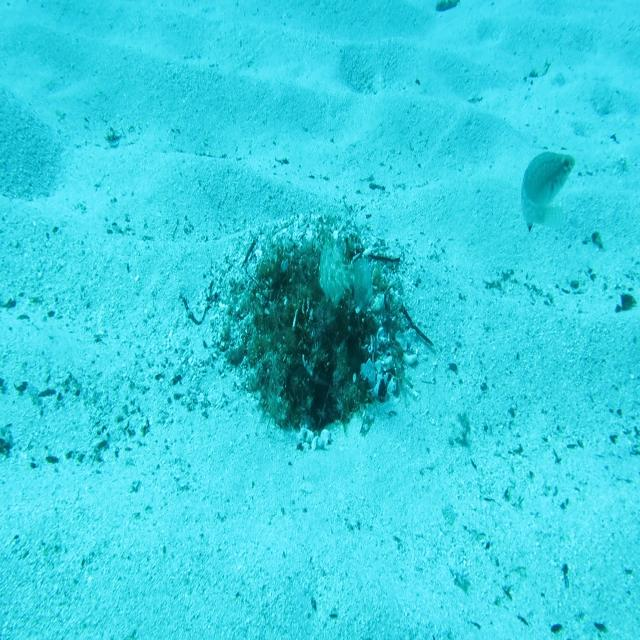NIP_CORE: (317, 231, 374, 317)
core_nest: (284, 267, 338, 310)
female: (515, 148, 579, 236)
nest: (207, 206, 427, 464)
vegetation: (614, 291, 638, 315)
